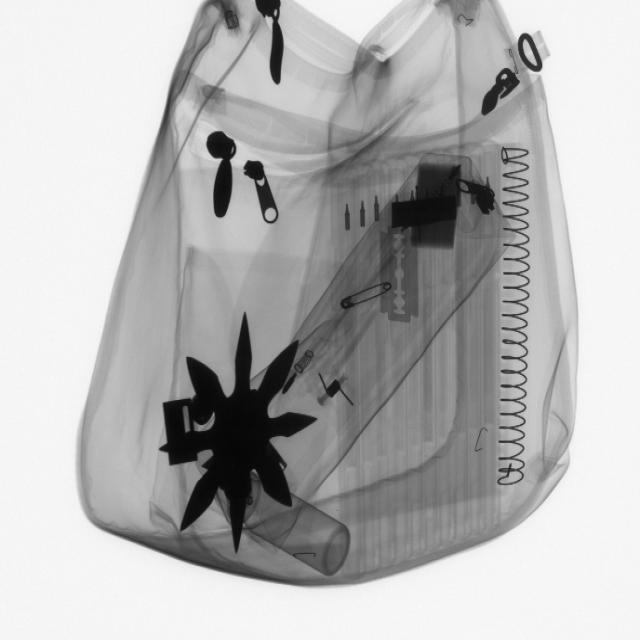BLADE: (375, 212, 434, 332)
SHURIKEN: (165, 315, 316, 555)
